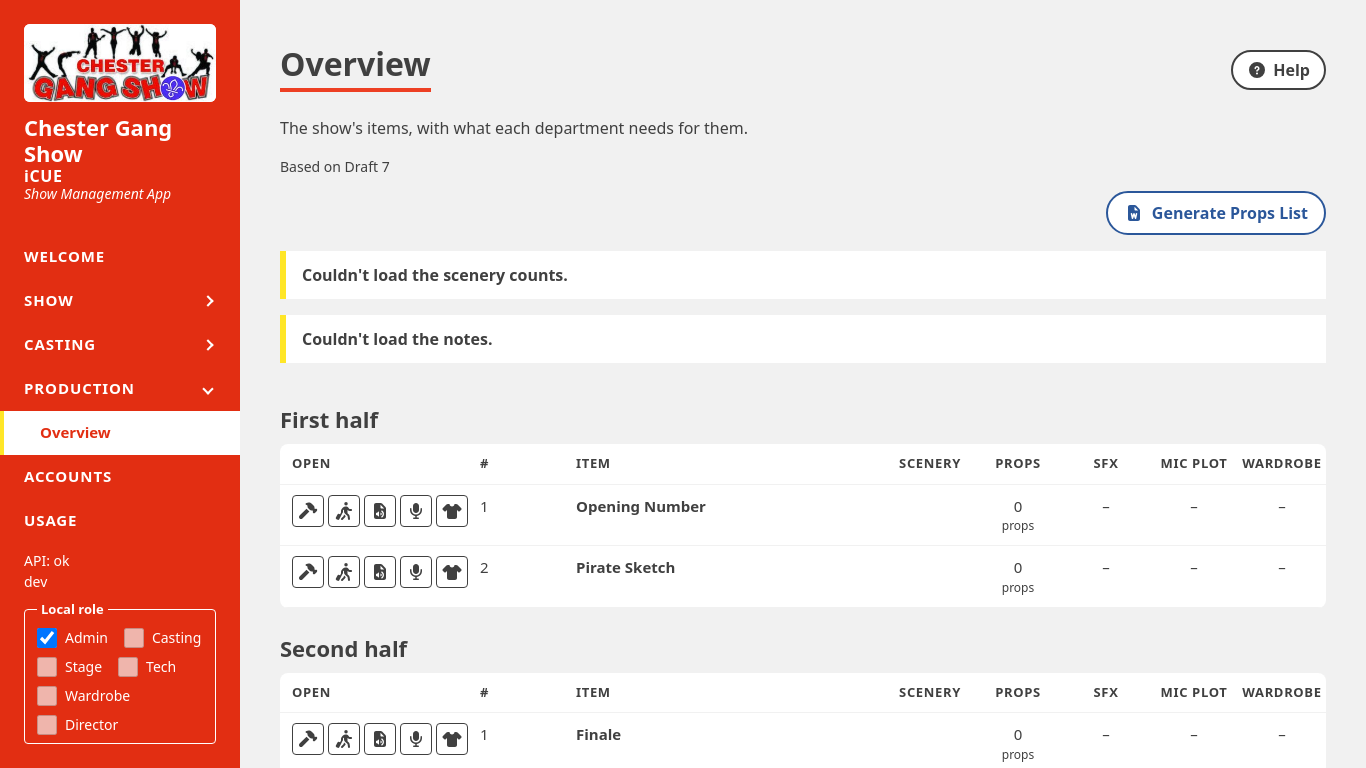
Test: A department's item page › opens the mic plot page from the Overview, with the item's name and position, coming soon
Click the 4th link with class "icon-button" at [416, 510], box top-left (400, 494), bottom-right (432, 526)
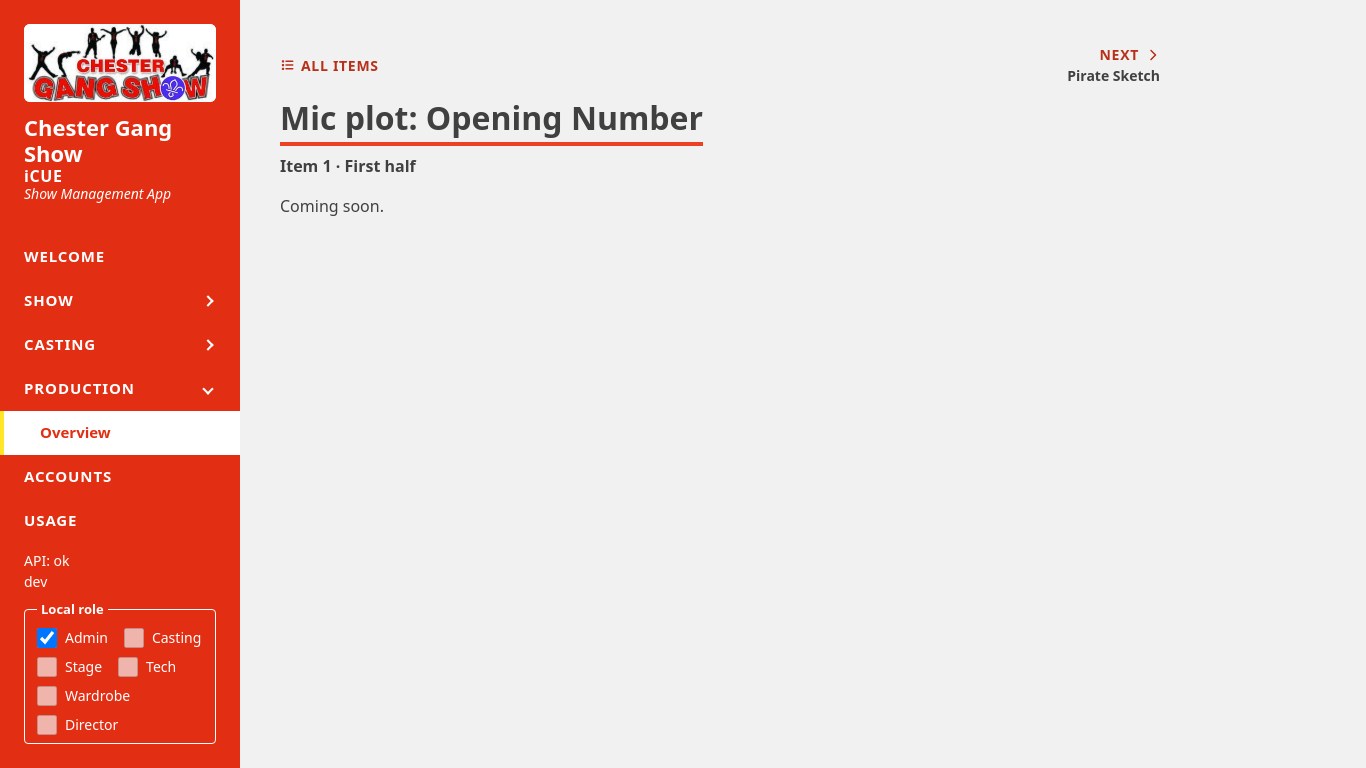
Now the heading "Mic plot: Opening Number" is shown, box top-left (280, 94), bottom-right (703, 146)
Now the text with test id "position" reads "Item 1 · First half", box top-left (280, 155), bottom-right (416, 177)
Now the element that starts with "All items" shows "Coming soon", box top-left (280, 195), bottom-right (384, 217)
